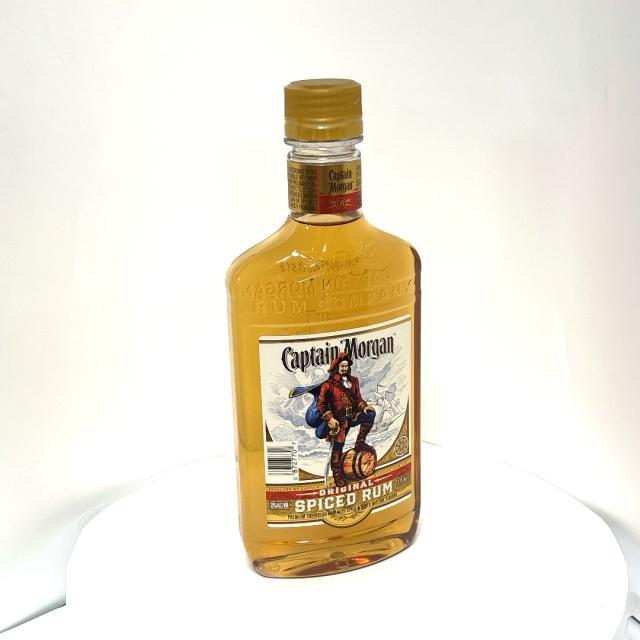CAPTAIN MORGAN SPICED RUM 375ML: (224, 78, 421, 581)
